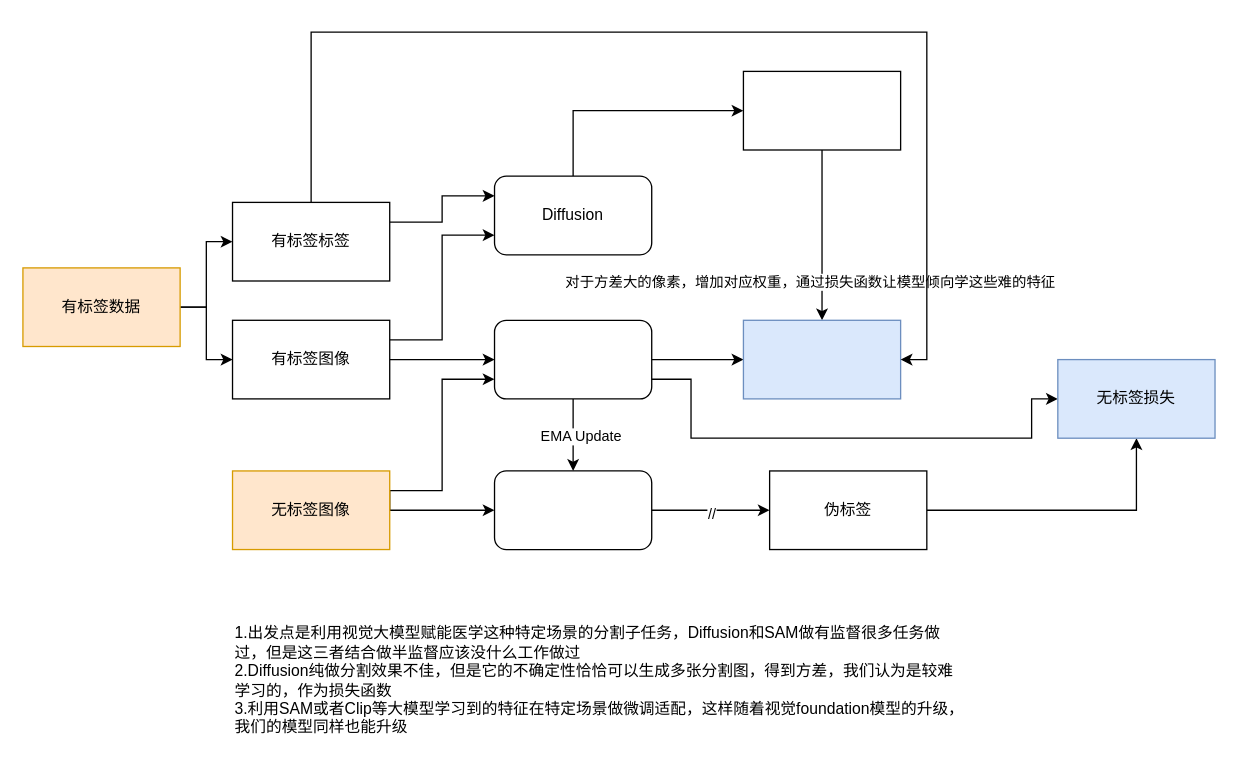
This 1238x760 diagram has some shape labels left out. Each missing label, with the box of its shape:
分割方差图: (742, 70, 901, 150)
大模型Encoder+微调技术adaptor（学生网络）: (493, 319, 652, 399)
教师网络: (493, 470, 652, 550)
有标签损失: (742, 319, 901, 399)
